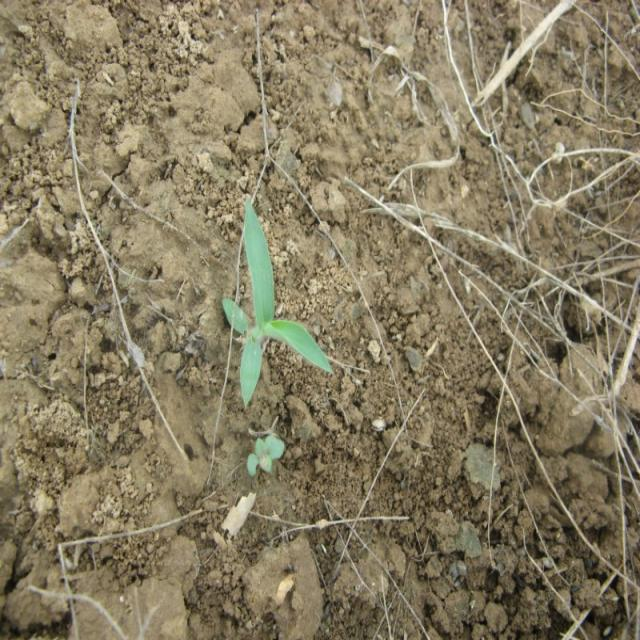bg: (226, 202, 338, 410)
